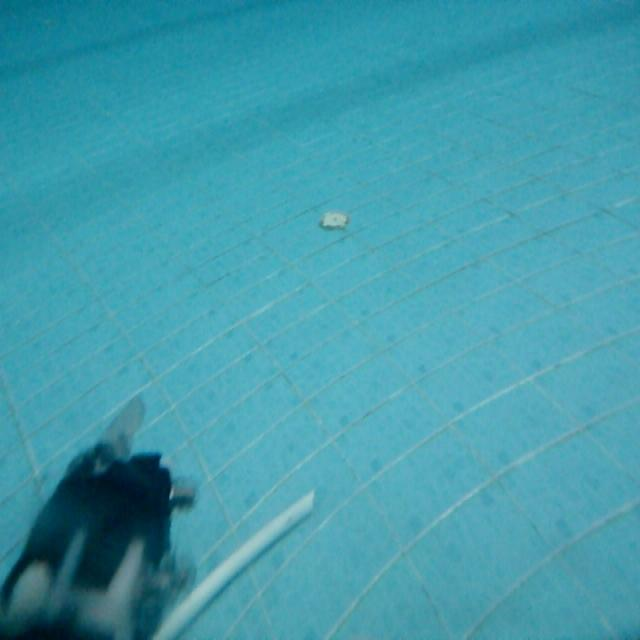Cube: (155, 491, 315, 636)
